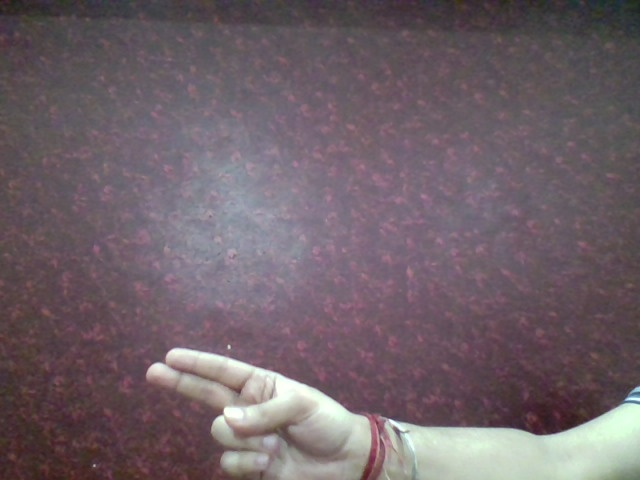h: (134, 340, 356, 480)
